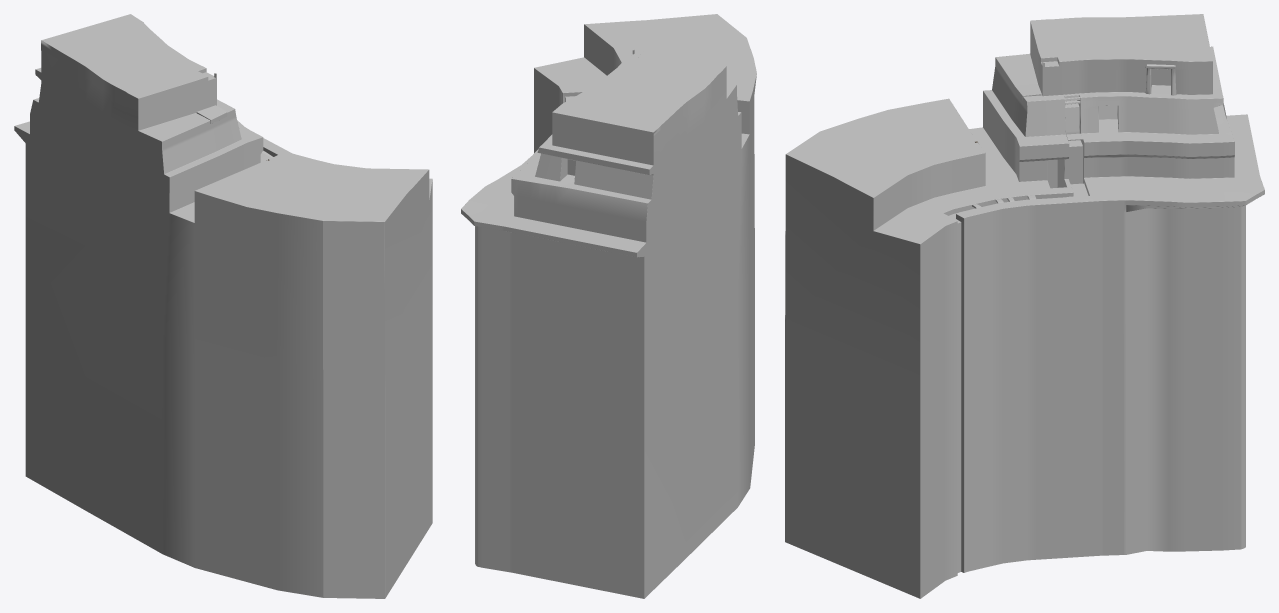
File: SM_CastInSitu_00.fbx
The picture shows the model from 3 angles, left to right: view 1: azimuth 30°, elevation 25°; view 2: azimuth 150°, elevation 25°; view 3: azimuth 270°, elevation 25°; orthographic projection. The views are drawn at different scales.
Parts seen in each view (by area): view 1: SM_CastInSitu_00; view 2: SM_CastInSitu_00; view 3: SM_CastInSitu_00.
Boxes of the visible parts, x1=… form: SM_CastInSitu_00: x1=14, y1=14, x2=432, y2=598; SM_CastInSitu_00: x1=461, y1=14, x2=756, y2=598; SM_CastInSitu_00: x1=785, y1=14, x2=1264, y2=598.
Size of the model in its own units: 4249 by 6956 by 6611.
